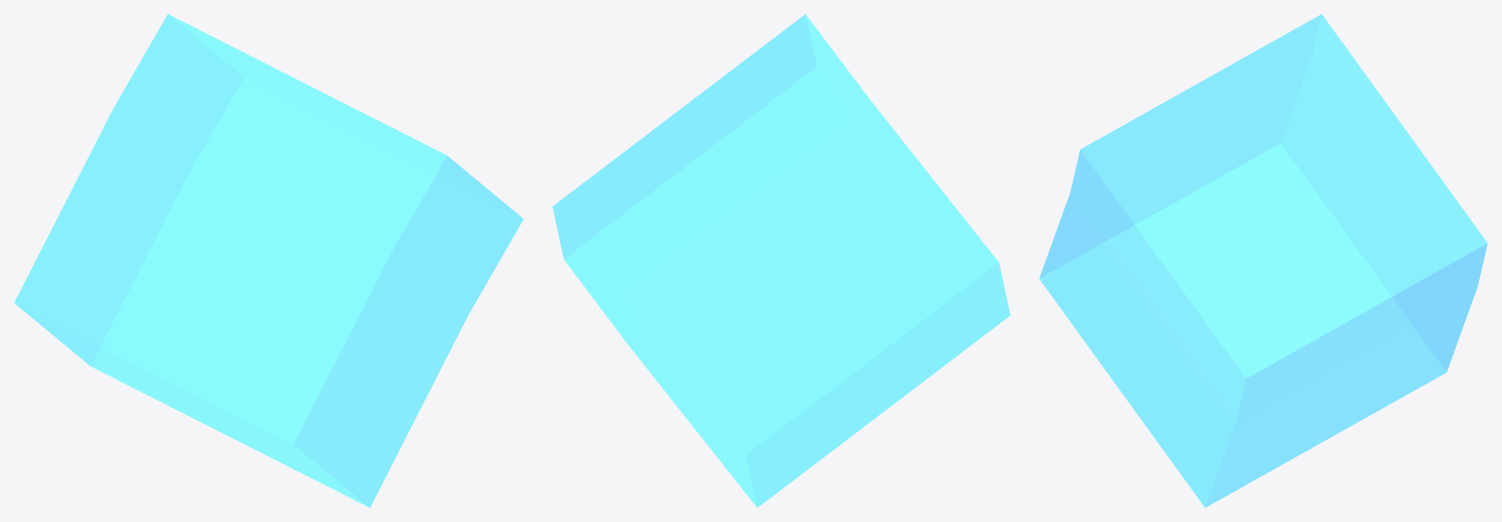
3 renders of one model, left to right at view 1: azimuth 30°, elevation 25°; view 2: azimuth 150°, elevation 25°; view 3: azimuth 270°, elevation 25°, orthographic. The views are drawn at different scales.
Visible parts, largest first — view 1: Cube; view 2: Cube; view 3: Cube.
Part boxes in pixels (left/top/right/bottom): Cube: left=14, top=14, right=523, bottom=507; Cube: left=552, top=14, right=1010, bottom=507; Cube: left=1039, top=14, right=1487, bottom=507.
Size of the model in its own units: 2.61 by 2.44 by 2.29.
